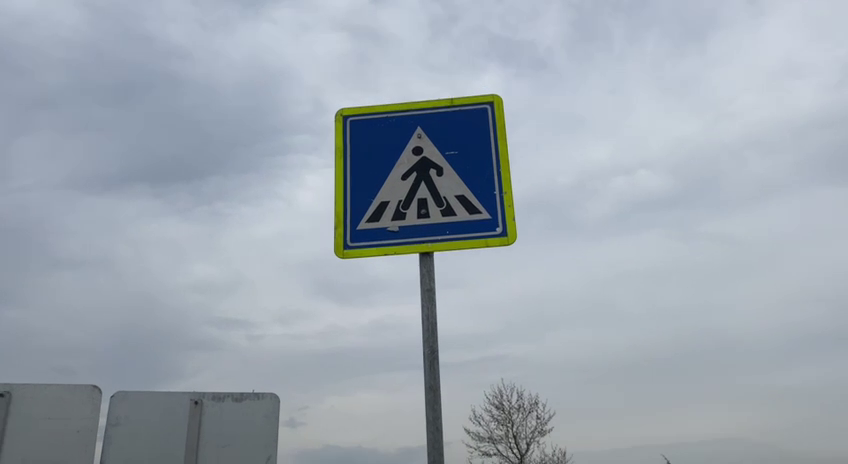pedestrianCrossing: (332, 94, 520, 263)
